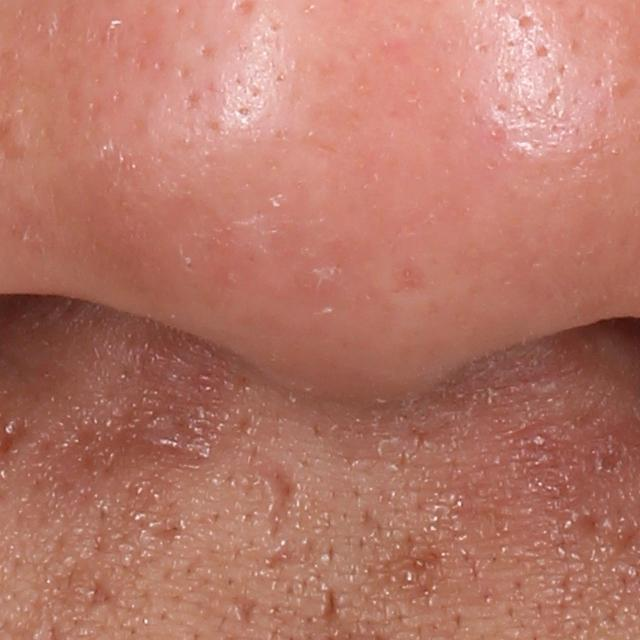atrophic_scar: (263, 463, 295, 542), (260, 540, 301, 575), (80, 579, 118, 614), (232, 595, 269, 629), (140, 514, 185, 541), (316, 582, 341, 624)
